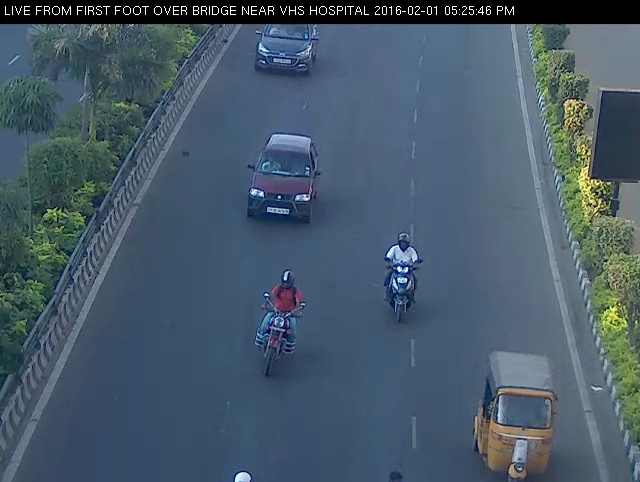Auto: (463, 338, 569, 479)
Car: (242, 123, 322, 234), (248, 18, 328, 83)
Person: (250, 258, 309, 385), (377, 229, 428, 328)
